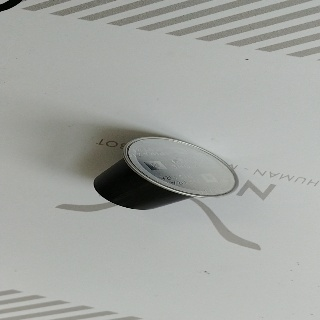capsule_10: (92, 135, 240, 211)
